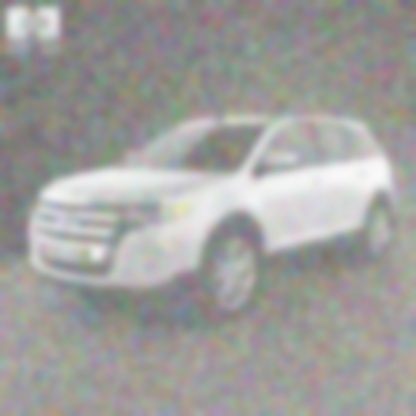Vehicle: (26, 109, 399, 314)
